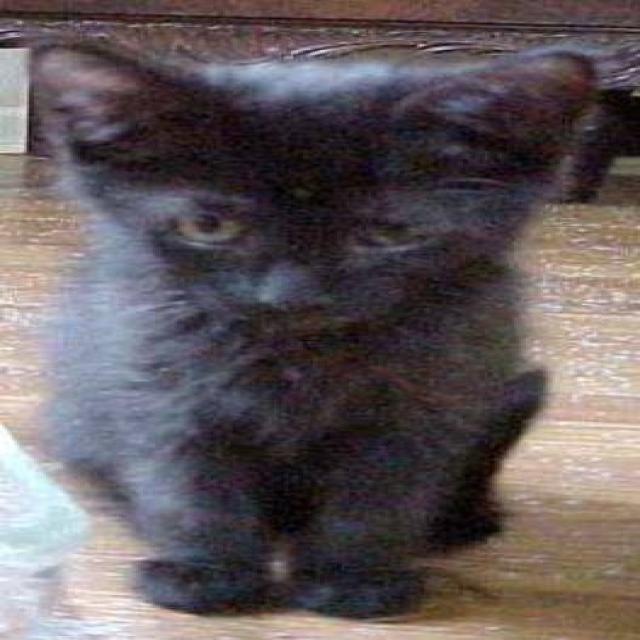cat: (14, 30, 611, 620)
